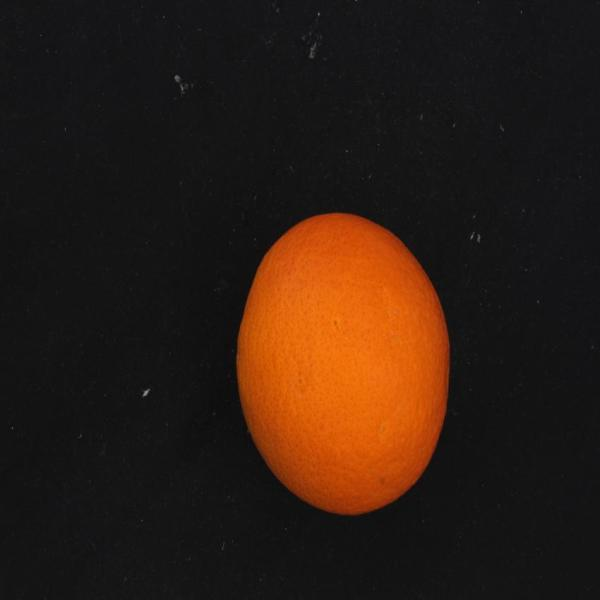Sana: (220, 201, 457, 522)
